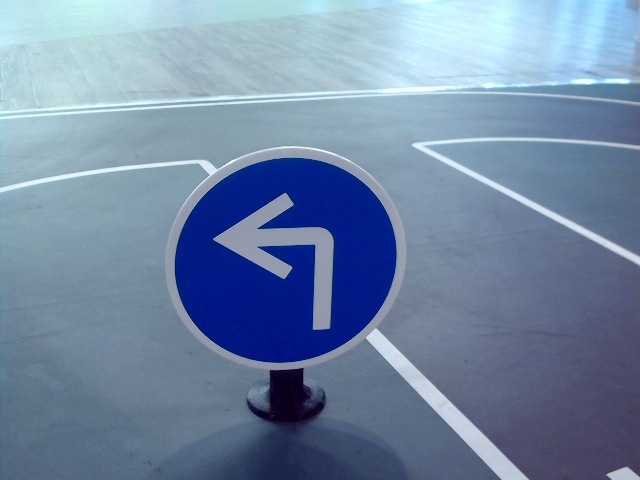turn_left: (211, 188, 344, 335)
